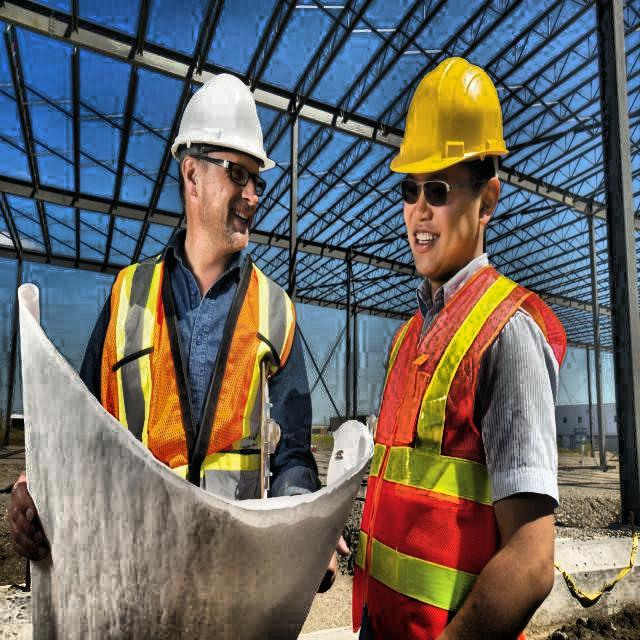person: (354, 55, 566, 640), (79, 55, 336, 507)
